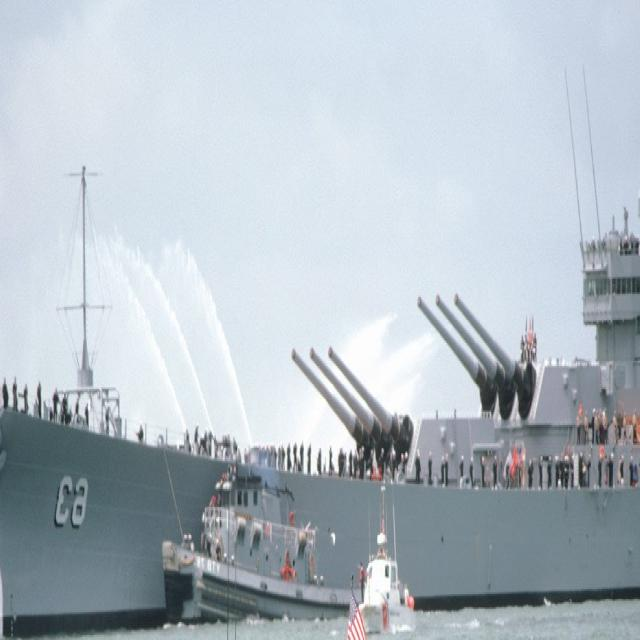houseboat: (344, 474, 432, 640)
navalvessels: (0, 136, 640, 640), (141, 450, 351, 611)
